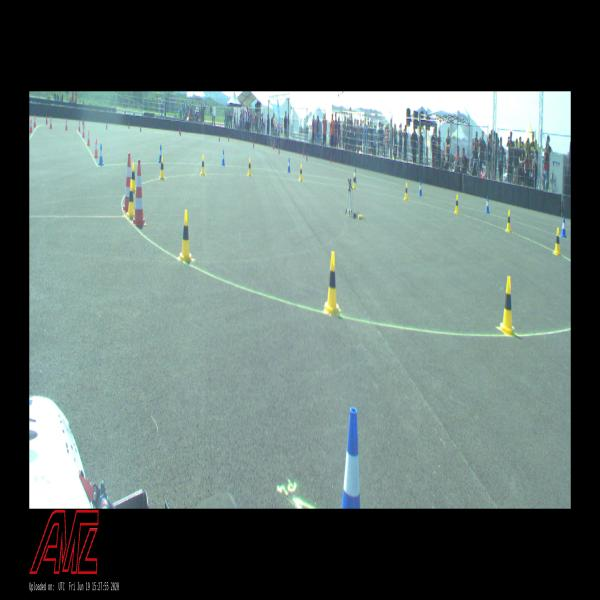blue_cone: (341, 407, 360, 509), (560, 216, 567, 238), (98, 144, 104, 166), (485, 196, 490, 213), (158, 145, 162, 163), (222, 150, 225, 166), (419, 180, 422, 196), (354, 168, 357, 183), (288, 158, 290, 172)
large_orange_cone: (132, 160, 146, 226), (123, 153, 131, 213)
orange_cone: (94, 138, 99, 158), (86, 130, 90, 146), (82, 125, 86, 138), (64, 119, 68, 130), (30, 119, 33, 132), (78, 120, 81, 131), (34, 118, 36, 128), (50, 118, 52, 128)
yellow_cone: (324, 252, 341, 313), (500, 277, 516, 335), (178, 210, 195, 261), (126, 179, 134, 218), (553, 228, 561, 255), (159, 157, 165, 180), (506, 210, 512, 233), (200, 156, 206, 176), (132, 163, 136, 193), (454, 195, 459, 214), (248, 158, 252, 176), (404, 183, 408, 200), (299, 164, 303, 181), (353, 173, 356, 189)
